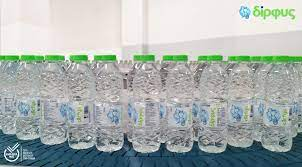PlasticBottle: (167, 55, 195, 153), (201, 54, 227, 155), (94, 53, 120, 151), (267, 56, 293, 153), (136, 54, 160, 152), (230, 55, 255, 147), (69, 56, 92, 147), (42, 57, 66, 143), (17, 56, 40, 140)
